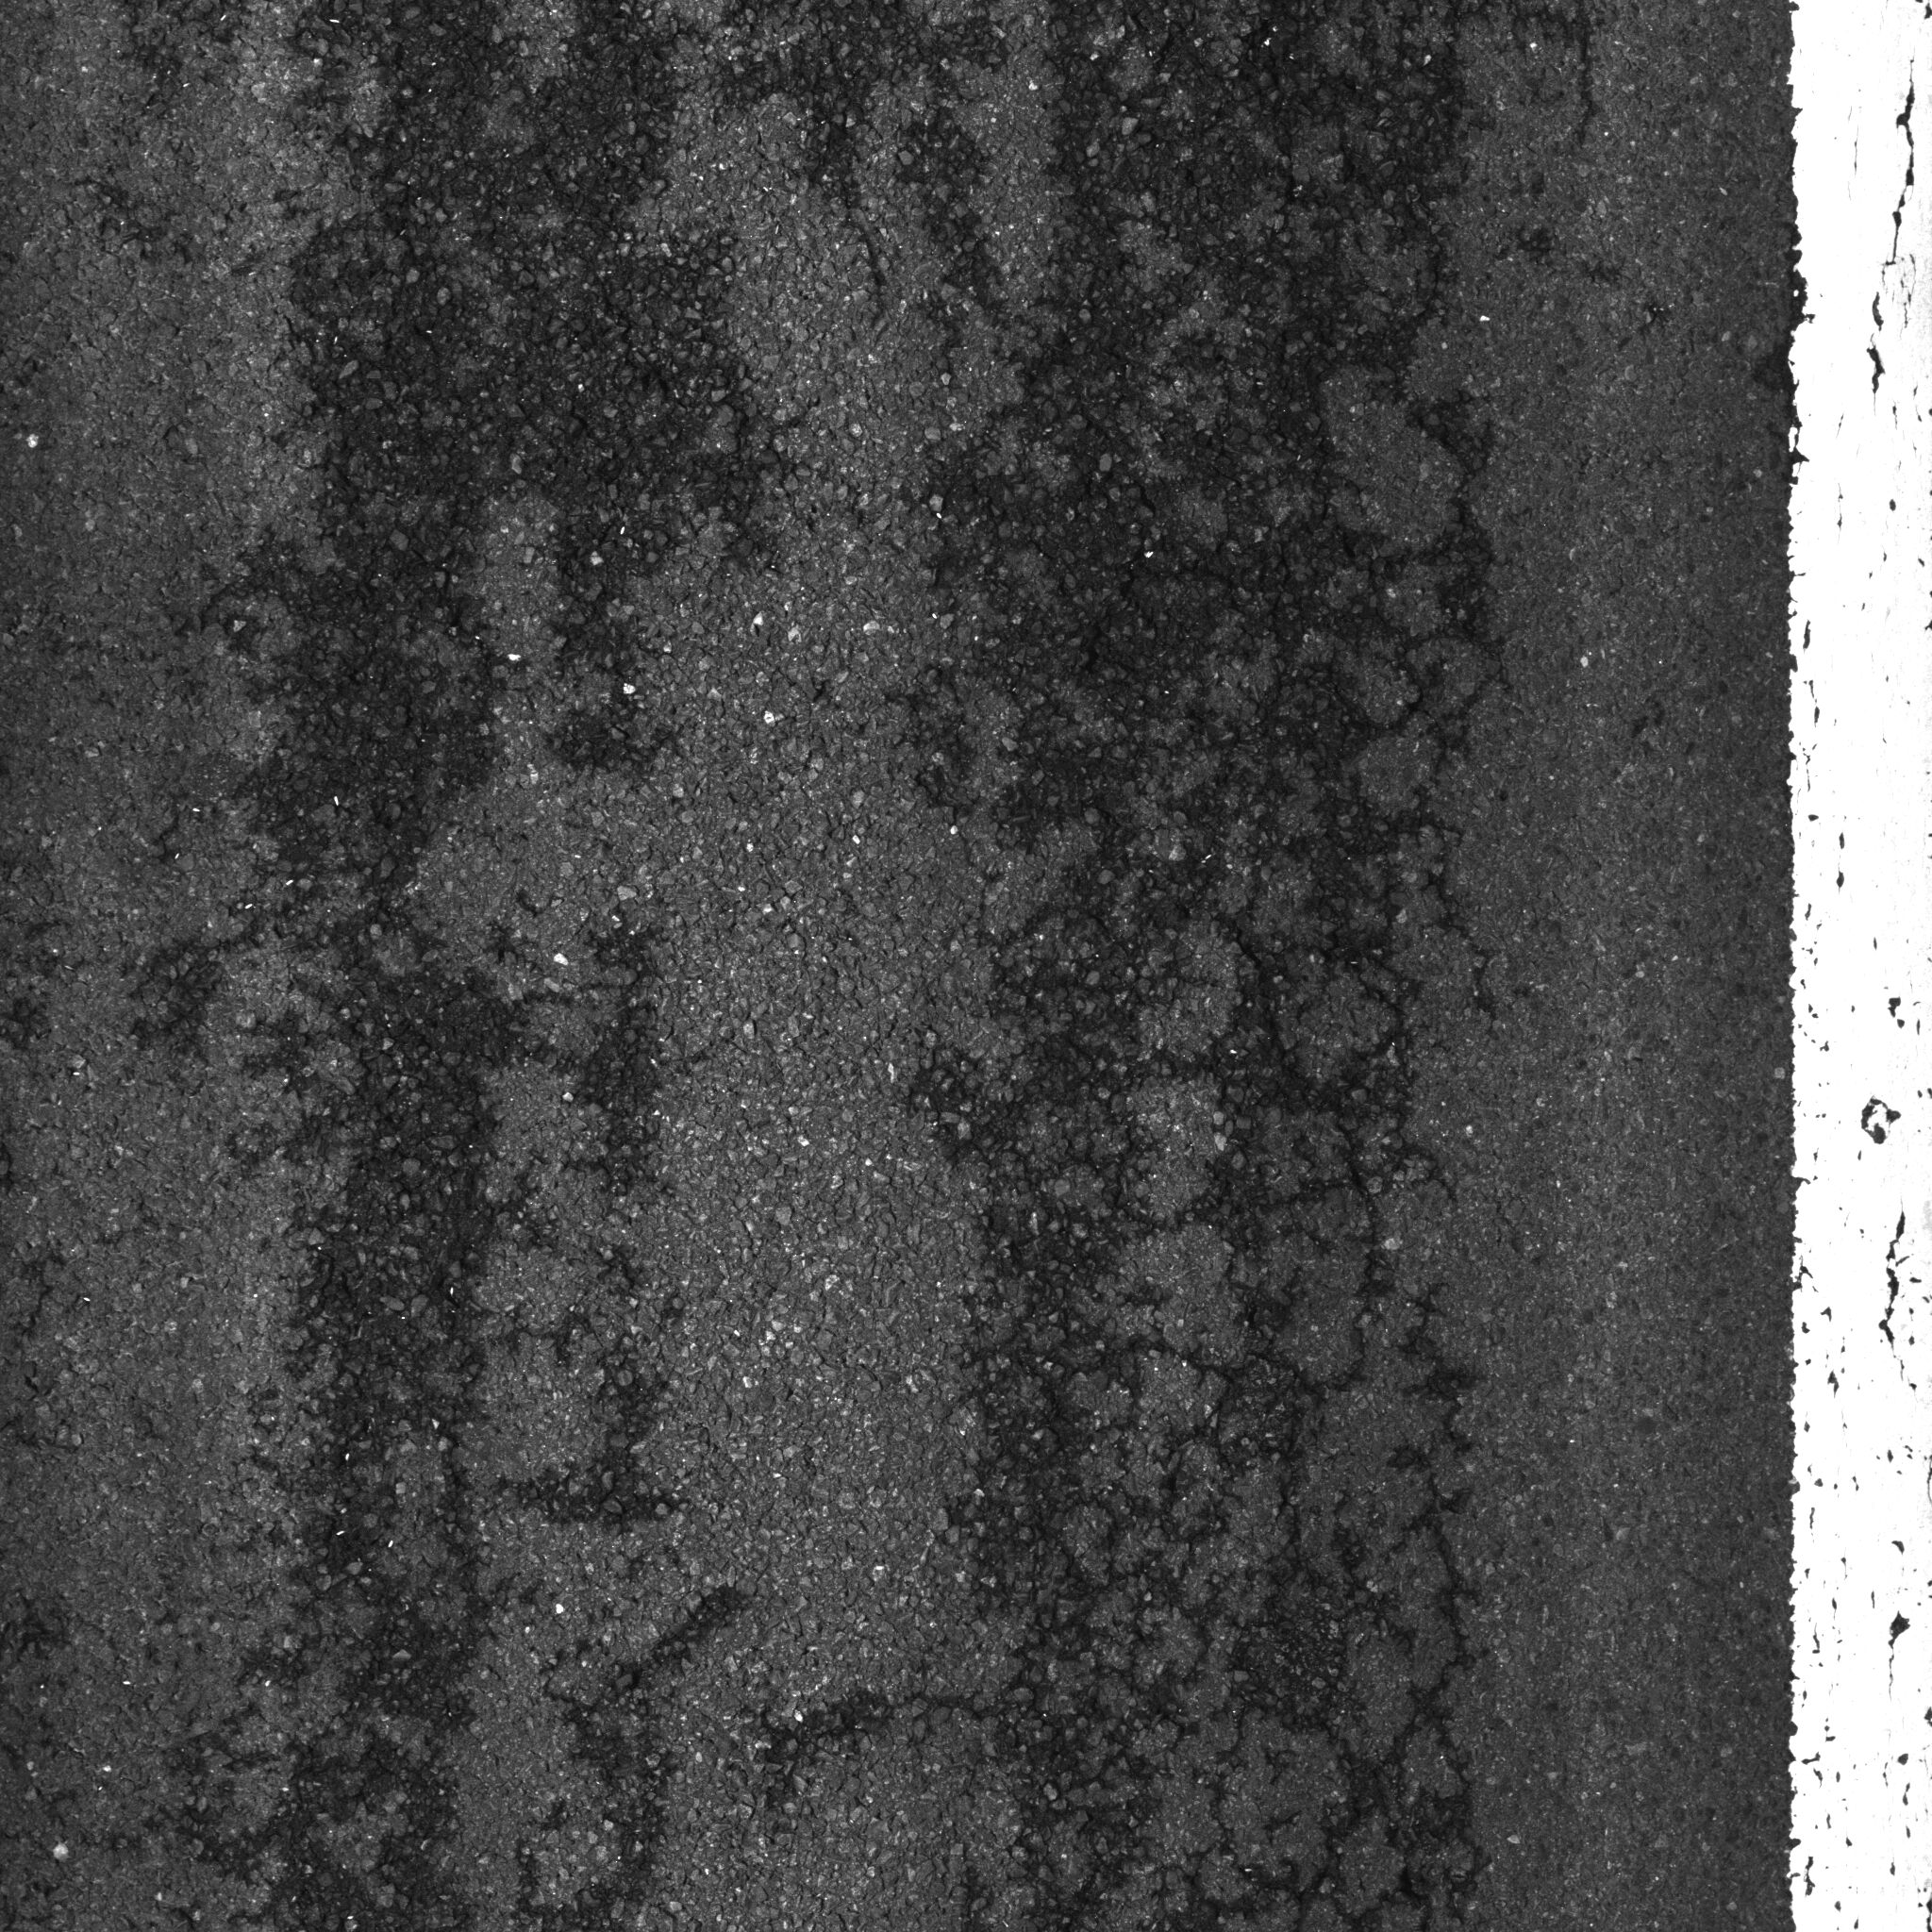alligator: (893, 7, 1589, 1932)
